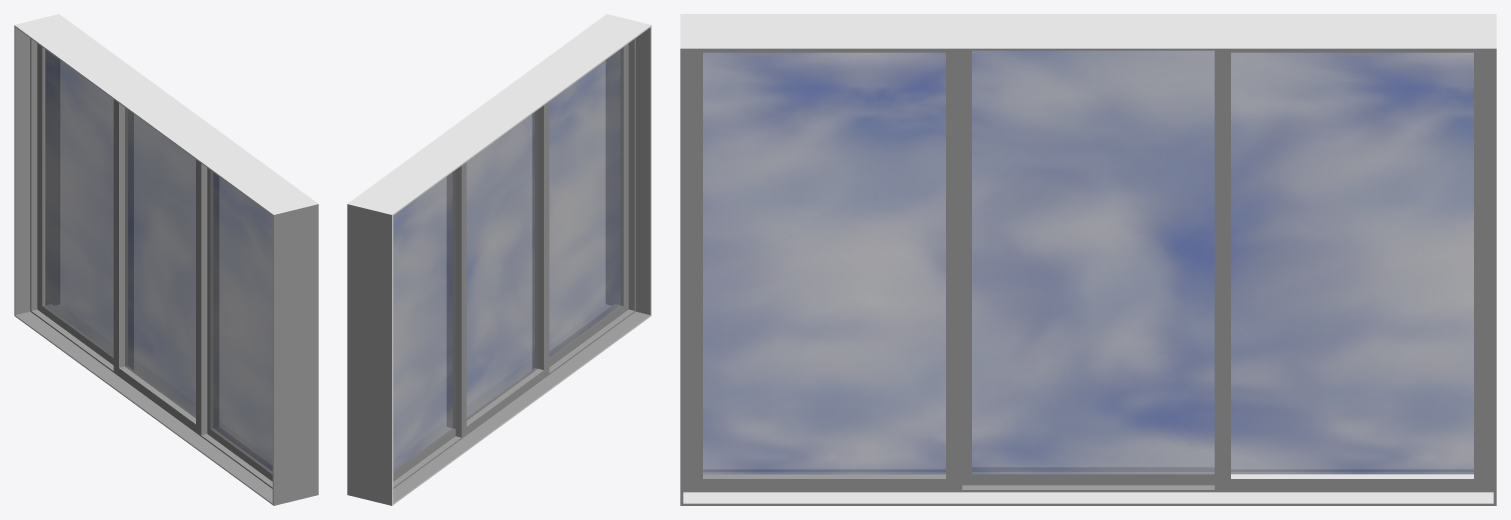
3 renders of one model, left to right at view 1: azimuth 30°, elevation 25°; view 2: azimuth 150°, elevation 25°; view 3: azimuth 270°, elevation 25°, orthographic. The views are drawn at different scales.
Visible parts, largest first — view 1: Mesh1_Model; view 2: Mesh1_Model; view 3: Mesh1_Model.
Part boxes in pixels (x1,y1,x2,y2): Mesh1_Model: (14, 14, 318, 505); Mesh1_Model: (347, 14, 651, 505); Mesh1_Model: (680, 14, 1496, 505).
Size of the model in its own units: 0.1003 by 0.62 by 1.
